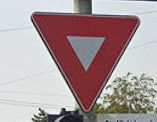cedeaza: (27, 9, 142, 112)
